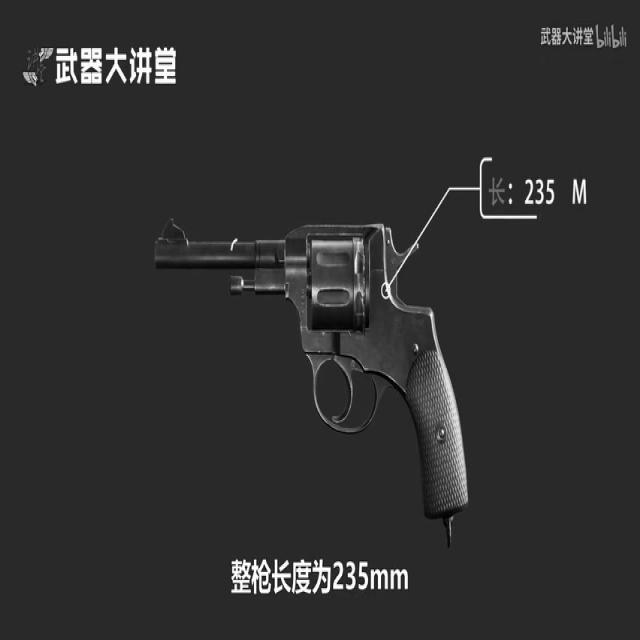Short-Gun: (142, 132, 512, 624)
